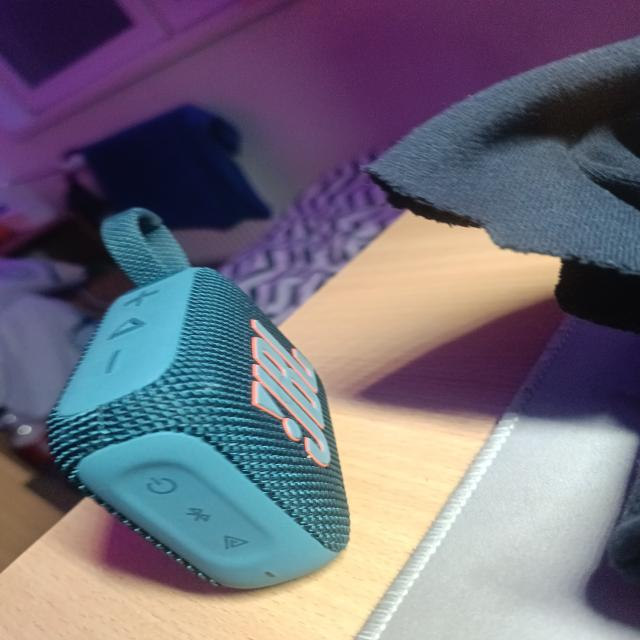column JBL: (47, 208, 350, 589)
